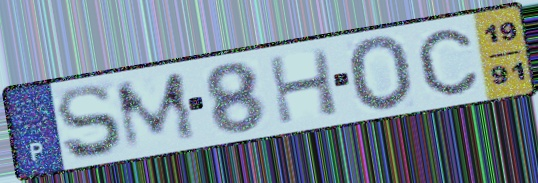8: (203, 59, 271, 137)
C: (414, 26, 482, 97)
H: (264, 45, 342, 128)
M: (110, 68, 201, 154)
O: (345, 33, 418, 116)
S: (53, 82, 126, 163)
